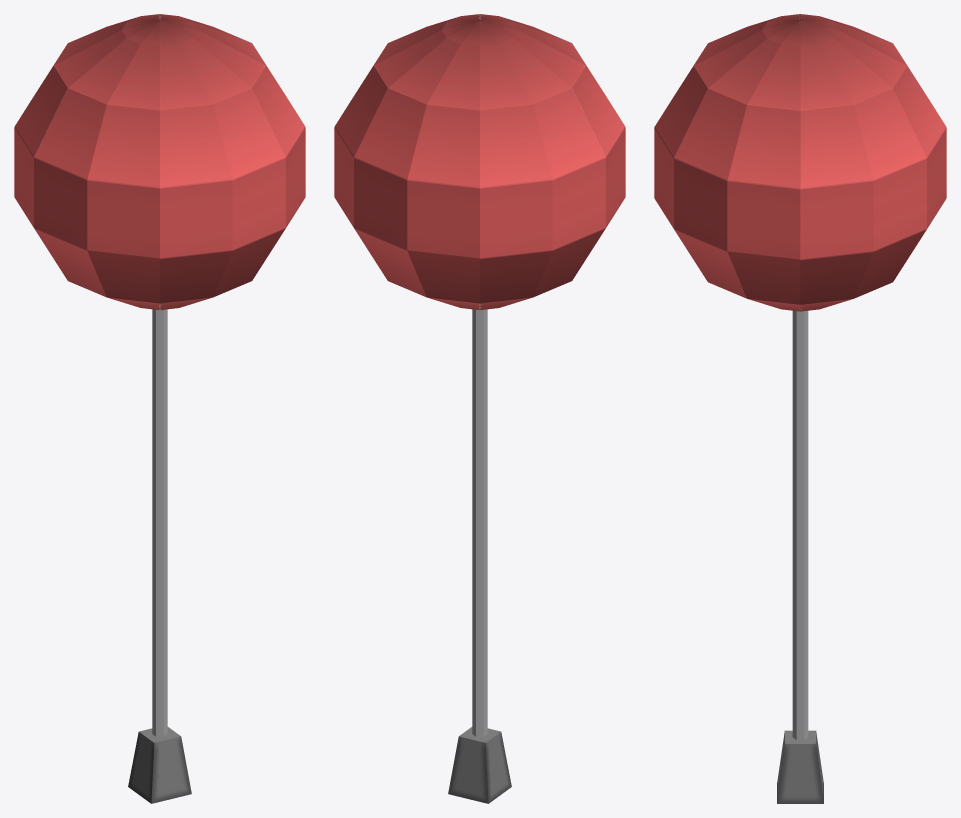
The model's file is Balloon_1-1.fbx.
The picture shows the model from 3 angles, left to right: view 1: azimuth 30°, elevation 25°; view 2: azimuth 150°, elevation 25°; view 3: azimuth 270°, elevation 25°; orthographic projection.
Visible parts, largest first — view 1: Balloon_1-1; view 2: Balloon_1-1; view 3: Balloon_1-1.
Part boxes in pixels (left/top/right/bottom): Balloon_1-1: left=14, top=14, right=305, bottom=803; Balloon_1-1: left=334, top=14, right=625, bottom=803; Balloon_1-1: left=654, top=14, right=946, bottom=803.
Size of the model in its own units: 93.4 by 272 by 93.4.
2 materials, 2 textured.
